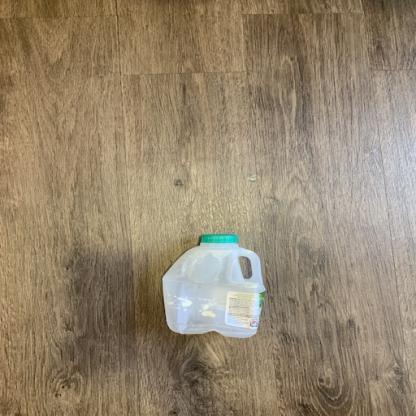trash: (161, 230, 273, 342)
